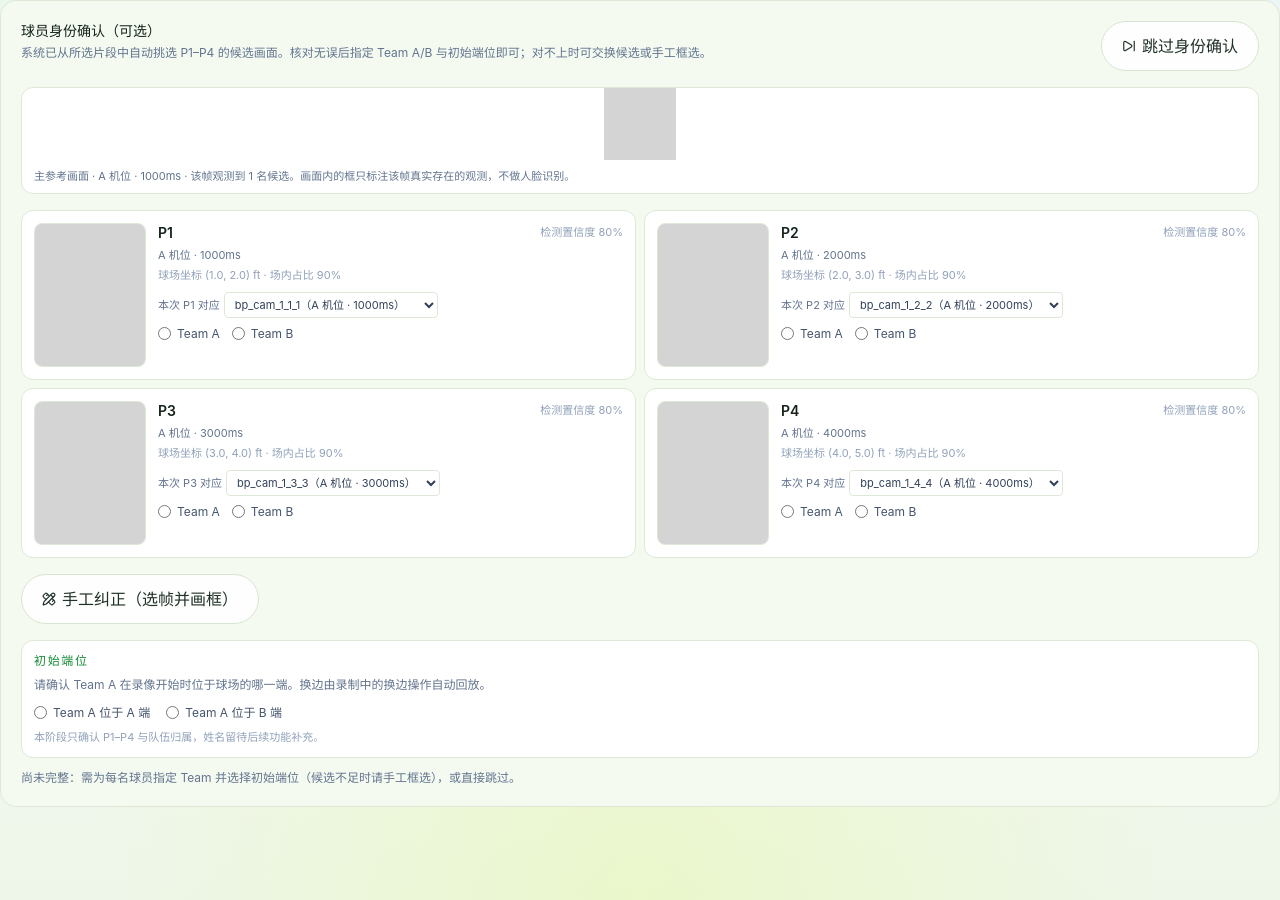
Test: AnalysisRosterConfirmation › 显式跳过：回抛 skipped 请求且不提供姓名输入
The image size is (1280, 900).
Click the button with test id "roster-skip-toggle" at (1180, 46), box [1101,21,1259,71]
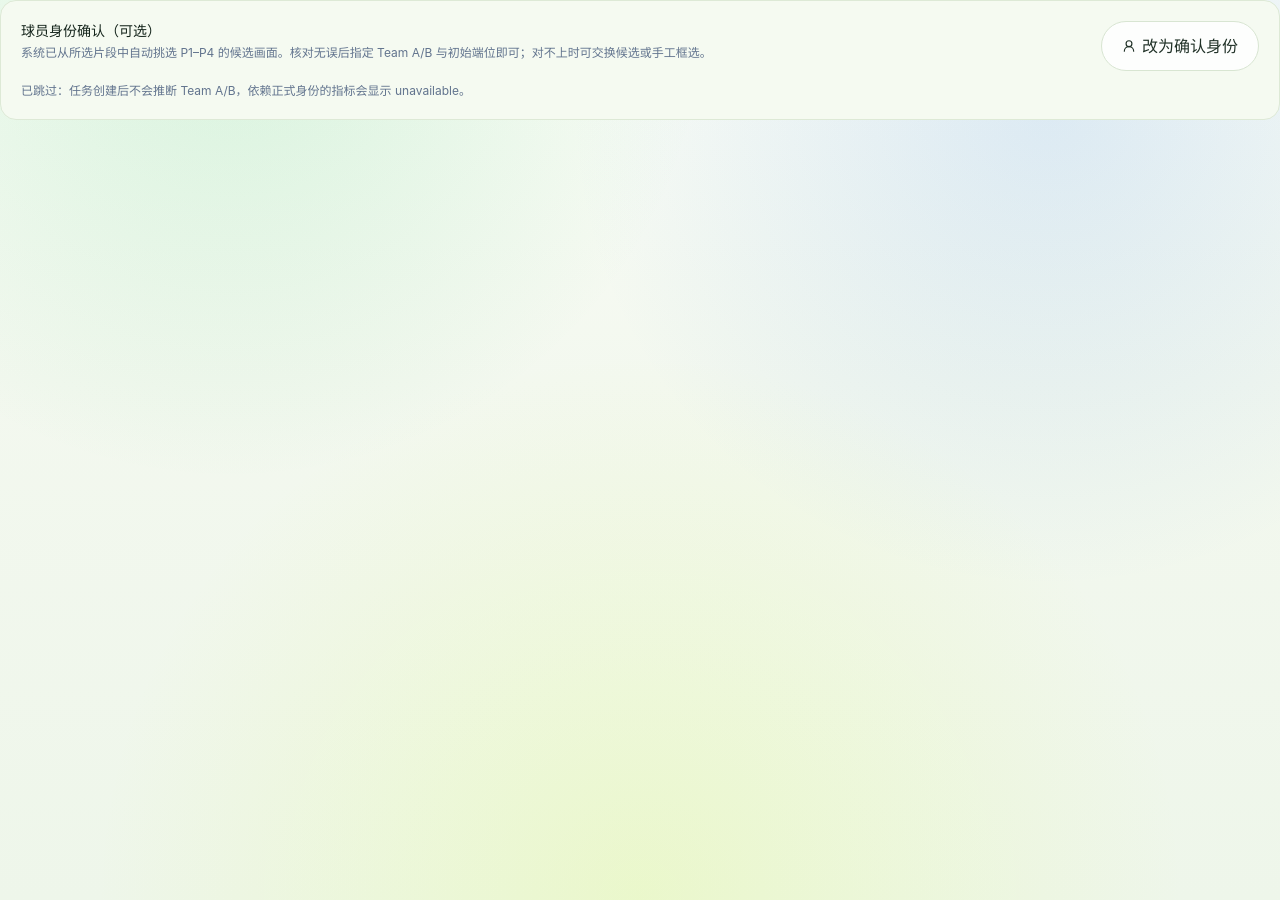
expect the text with test id "roster-skipped-note" shows "不会推断 Team A/B": met, box [21,83,471,98]
